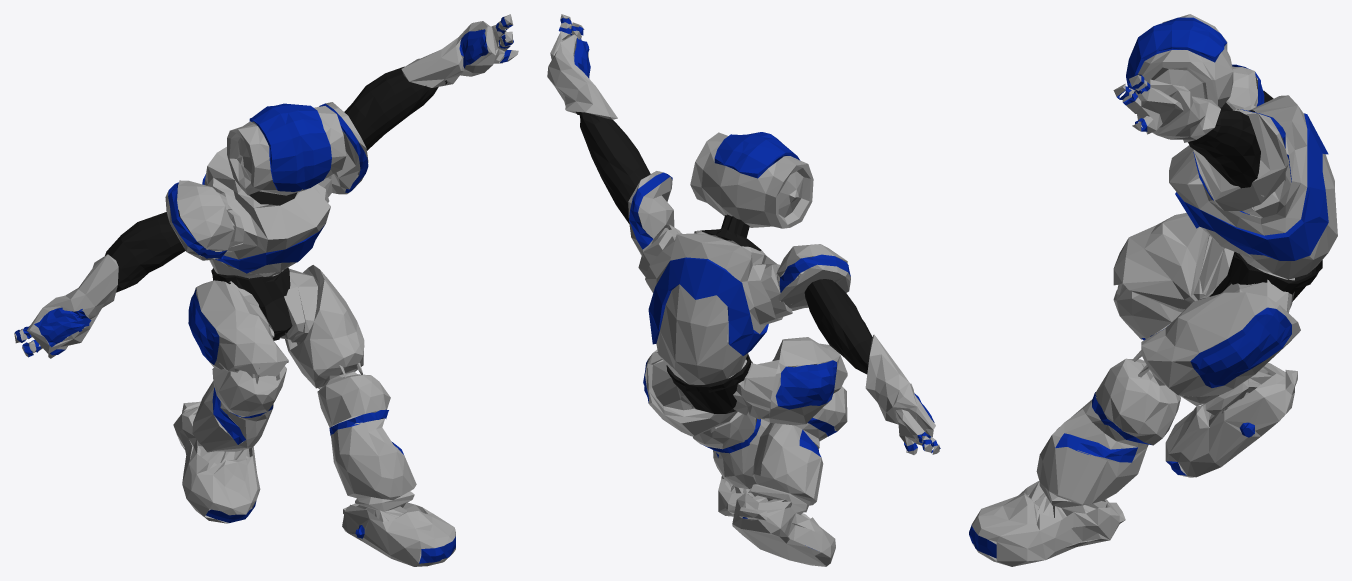
Rendered from run_jump7.obj.
The picture shows the model from 3 angles, left to right: view 1: azimuth 30°, elevation 25°; view 2: azimuth 150°, elevation 25°; view 3: azimuth 270°, elevation 25°; orthographic projection. The views are drawn at different scales.
Parts seen in each view (by area): view 1: Robot2.001_Robot2Mesh.000, Robot2_Robot2Mesh.001, Robot2.002_Robot2Mesh.002; view 2: Robot2.001_Robot2Mesh.000, Robot2_Robot2Mesh.001, Robot2.002_Robot2Mesh.002; view 3: Robot2.001_Robot2Mesh.000, Robot2_Robot2Mesh.001, Robot2.002_Robot2Mesh.002.
Boxes of the visible parts, x1,y1,x2,y2 form: Robot2.001_Robot2Mesh.000: (14,14,518,566); Robot2_Robot2Mesh.001: (15,16,513,563); Robot2.002_Robot2Mesh.002: (105,66,447,340); Robot2.001_Robot2Mesh.000: (547,14,939,566); Robot2_Robot2Mesh.001: (558,18,940,548); Robot2.002_Robot2Mesh.002: (576,111,872,413); Robot2.001_Robot2Mesh.000: (972,14,1337,566); Robot2_Robot2Mesh.001: (969,17,1328,558); Robot2.002_Robot2Mesh.002: (1188,90,1322,301).
Bounding box in the file's own units: 1.94 × 2 × 1.2.
